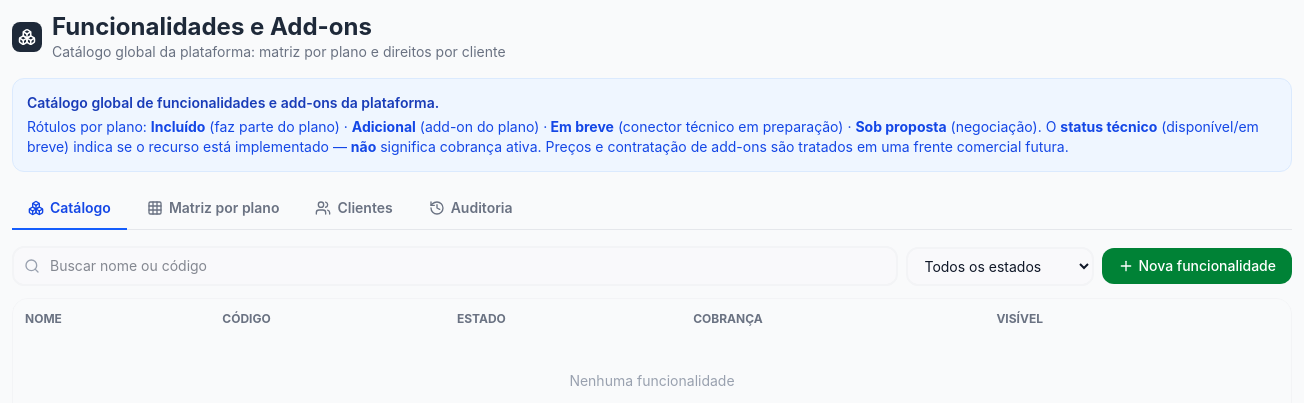
it: PainelFuncionalidades — busca de clientes › busca por código de convite MATO-* lista a empresa
The width and height of the screenshot is (1304, 403).
Click the button "Clientes" at (354, 209), box [299,188,409,230]
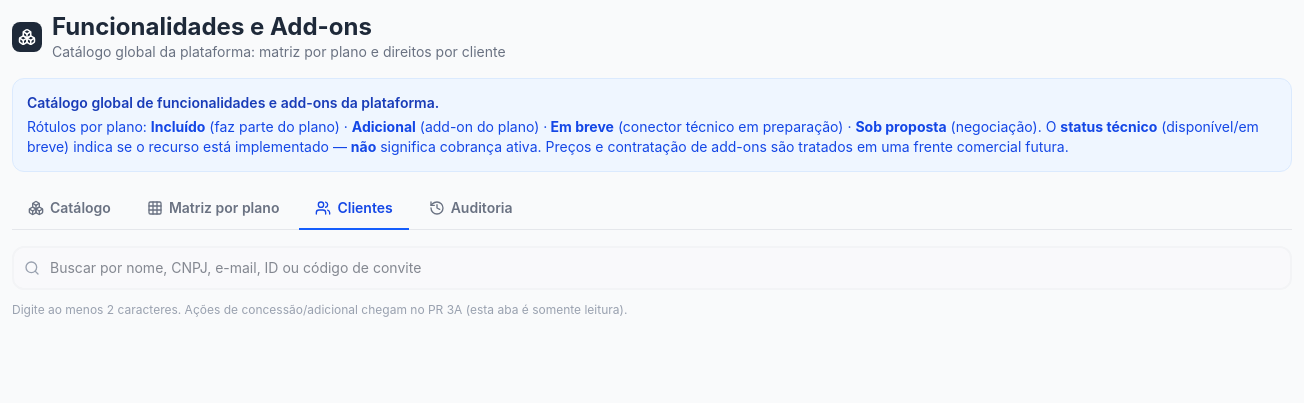
Type "MATO-ZZZ999" into the field named "buscar cliente" at (652, 268), box [12,246,1292,290]
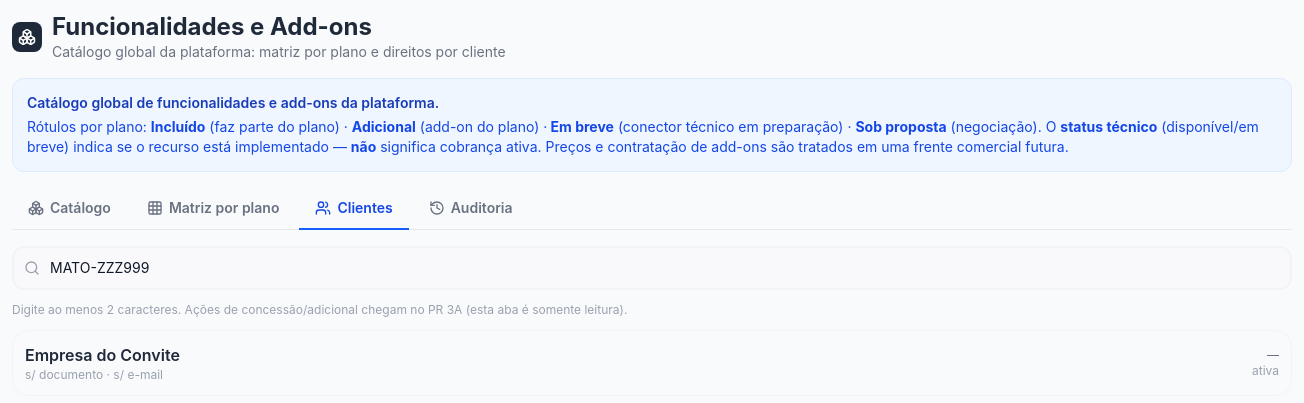
Expected: the text "Empresa do Convite" is shown, [25,345,180,365]
